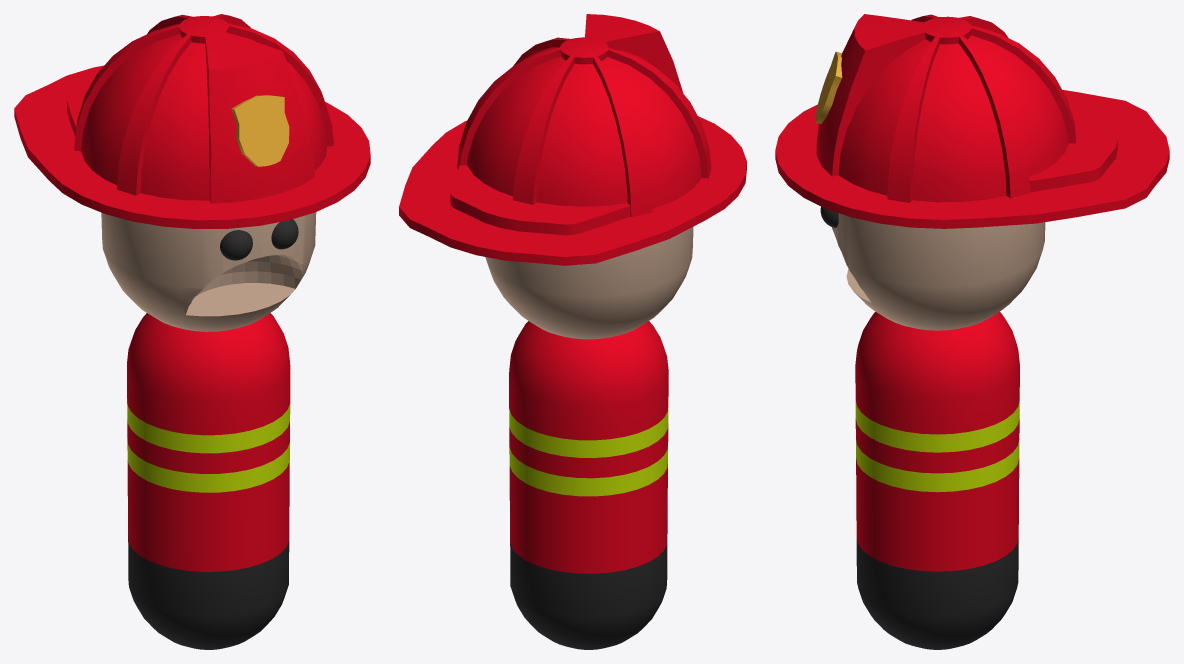
Rendered from playerSad.fbx.
The picture shows the model from 3 angles, left to right: view 1: azimuth 30°, elevation 25°; view 2: azimuth 150°, elevation 25°; view 3: azimuth 270°, elevation 25°; orthographic projection. The views are drawn at different scales.
Visible parts, largest first — view 1: Helmet, Body, Head, Badge, Eye Left, Eye Right; view 2: Helmet, Body, Head; view 3: Helmet, Body, Head, Badge.
Part boxes in pixels (bbox=[...]): Helmet: bbox=[14, 14, 370, 229]; Body: bbox=[127, 313, 290, 649]; Head: bbox=[101, 212, 316, 331]; Badge: bbox=[231, 95, 289, 166]; Eye Left: bbox=[220, 230, 252, 260]; Eye Right: bbox=[271, 219, 298, 249]; Helmet: bbox=[399, 14, 746, 265]; Body: bbox=[509, 321, 668, 649]; Head: bbox=[485, 226, 693, 339]; Helmet: bbox=[775, 14, 1169, 228]; Body: bbox=[855, 311, 1019, 649]; Head: bbox=[832, 213, 1045, 330]; Badge: bbox=[815, 51, 842, 124].
Size of the model in its own units: 303 by 624 by 361.
